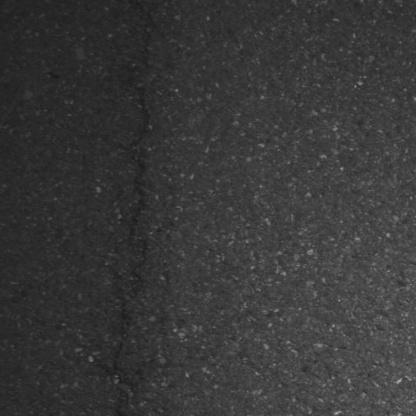Cracks: (115, 82, 154, 293), (109, 284, 134, 368)
